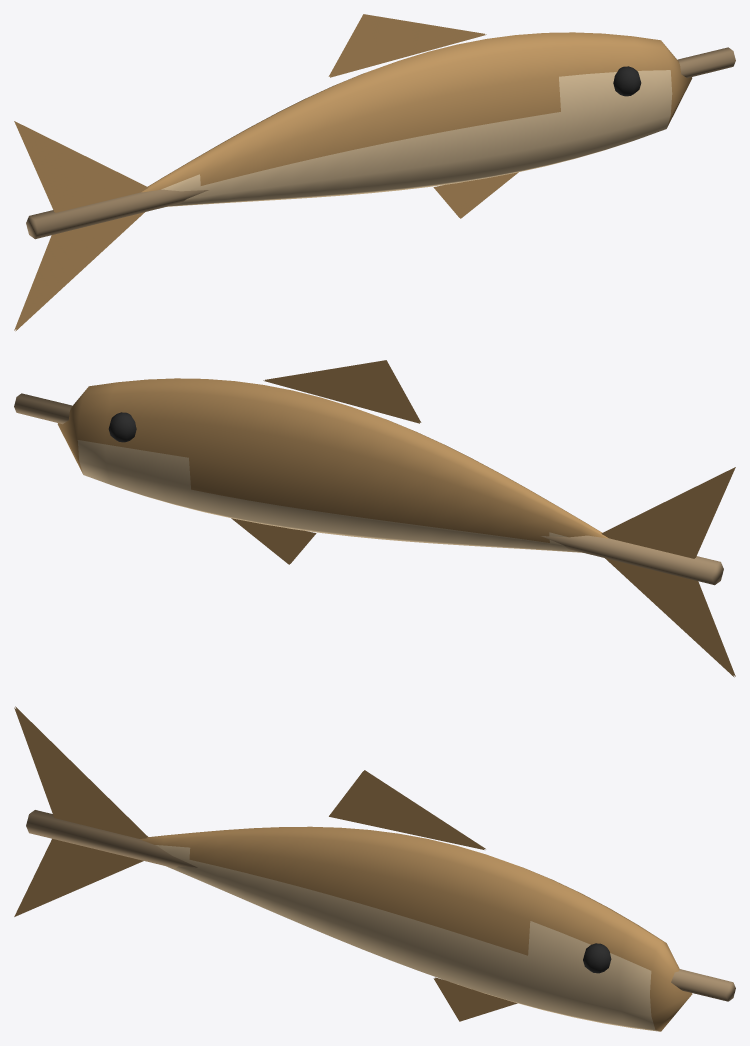
The model's file is ITEM_CookedFish.fbx.
The picture shows the model from 3 angles, top to bottom: view 1: azimuth 30°, elevation 25°; view 2: azimuth 150°, elevation 25°; view 3: azimuth 330°, elevation 25°; orthographic projection.
Visible parts, largest first — view 1: ITEM_CookedFish; view 2: ITEM_CookedFish; view 3: ITEM_CookedFish.
Boxes of the visible parts, x1,y1,x2,y2 form: ITEM_CookedFish: [14, 14, 735, 331]; ITEM_CookedFish: [14, 360, 735, 677]; ITEM_CookedFish: [14, 706, 735, 1031].
Size of the model in its own units: 0.41 by 0.1267 by 0.044.
